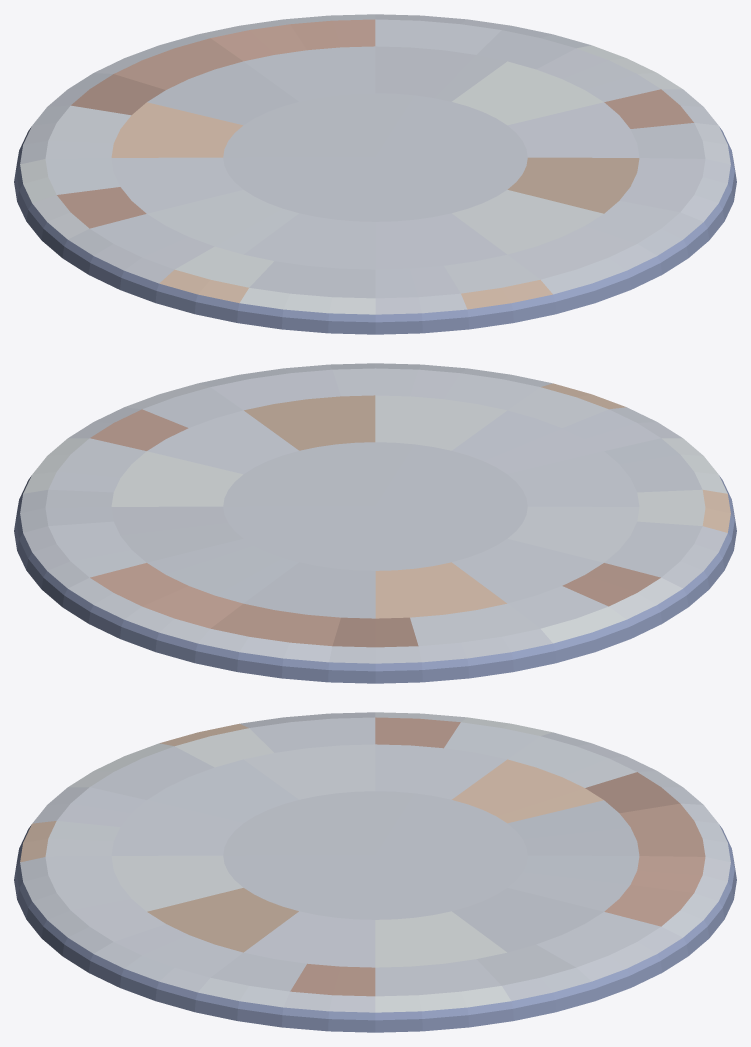
File: SM_Winter_Podium.fbx
3 renders of one model, top to bottom at view 1: azimuth 30°, elevation 25°; view 2: azimuth 150°, elevation 25°; view 3: azimuth 270°, elevation 25°, orthographic.
Parts seen in each view (by area): view 1: SM_Winter_Podium; view 2: SM_Winter_Podium; view 3: SM_Winter_Podium.
Boxes of the visible parts, left/top/right/bottom form: SM_Winter_Podium: left=14, top=14, right=736, bottom=334; SM_Winter_Podium: left=14, top=363, right=736, bottom=683; SM_Winter_Podium: left=14, top=712, right=736, bottom=1032.
Bounding box in the file's own units: 142 × 5.4 × 142.
